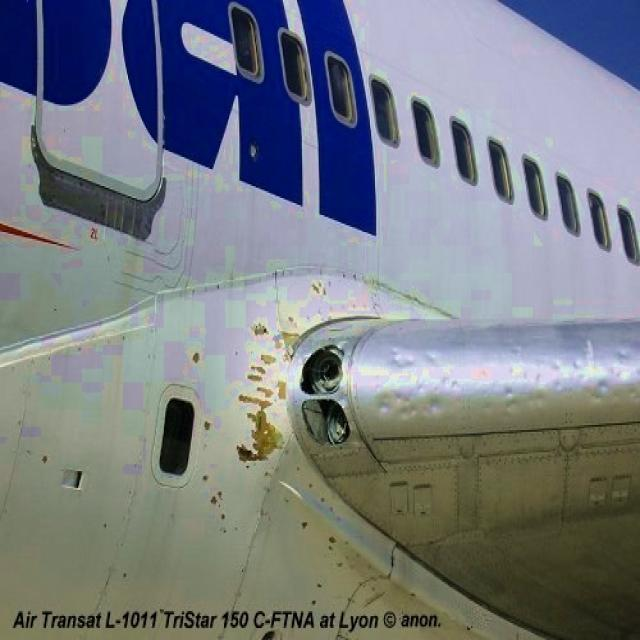dent: (372, 336, 640, 426)
